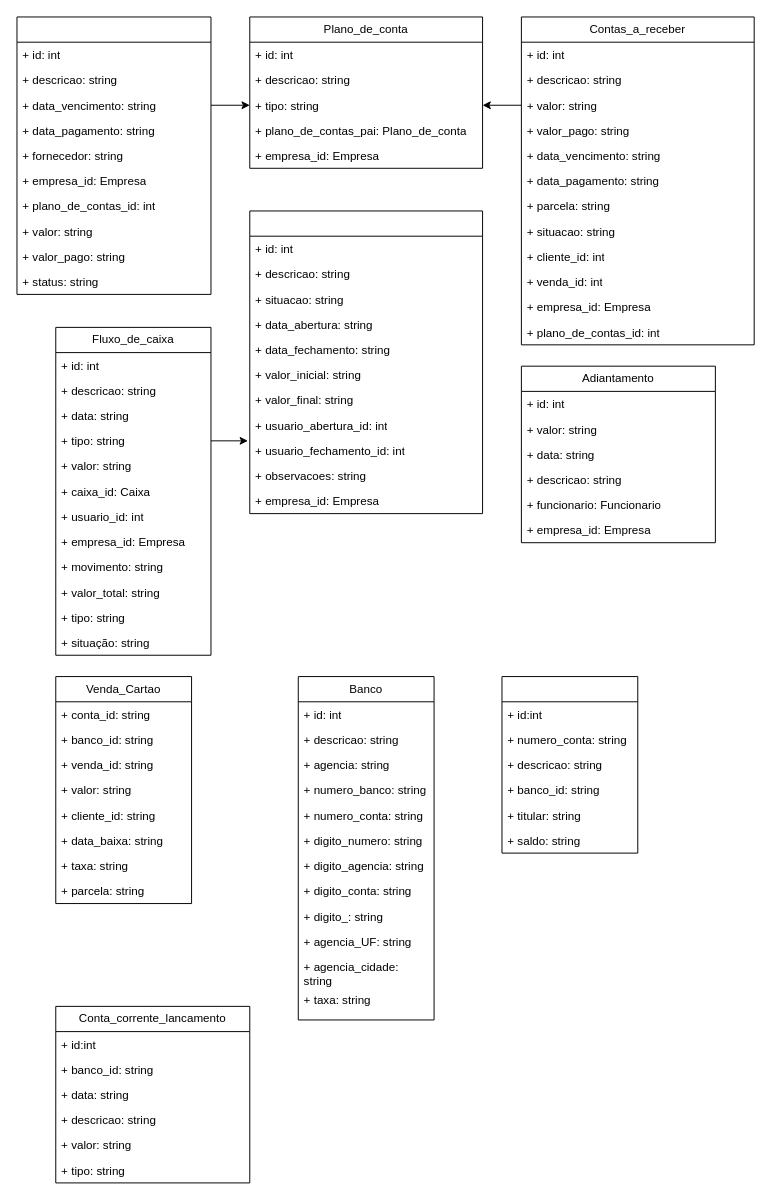
The diagram is 771 pixels wide and 1203 high, and some of its shapes have lost their labels. The box of each missing label's shape, as (x1, y1, x2, y2) in pixels:
Caixa: (249, 210, 483, 514)
Conta_corrente: (501, 676, 638, 853)
Contas_a_pagar: (16, 16, 211, 294)
